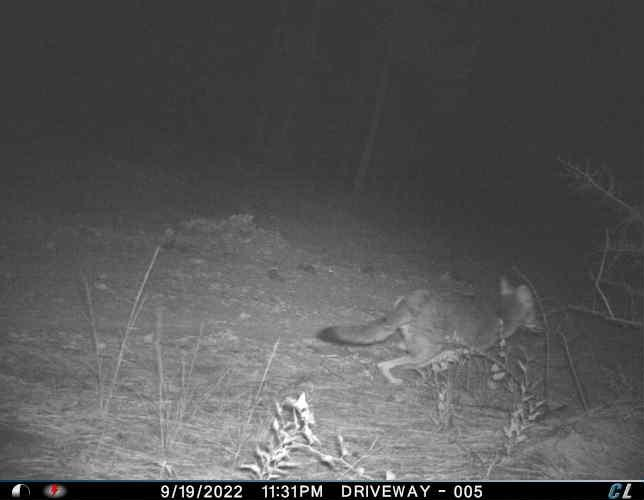Coyote: (314, 278, 550, 394)
